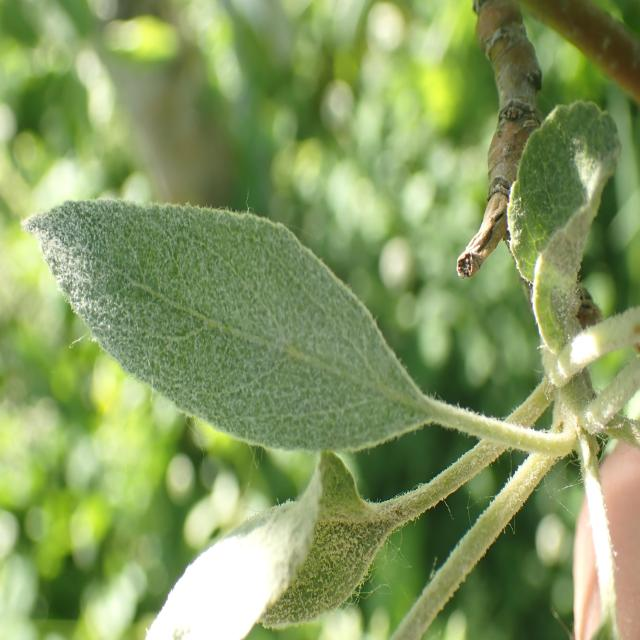Powdery_mildew: (14, 176, 443, 476), (111, 456, 450, 640), (498, 89, 633, 371)
